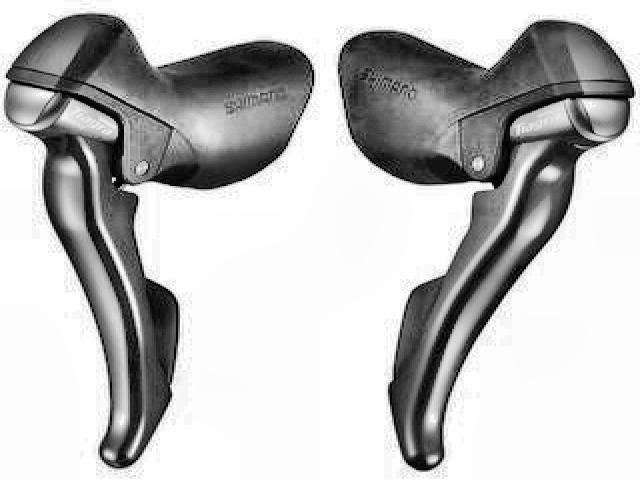sti_shifter: (3, 9, 317, 470), (338, 17, 636, 472)
